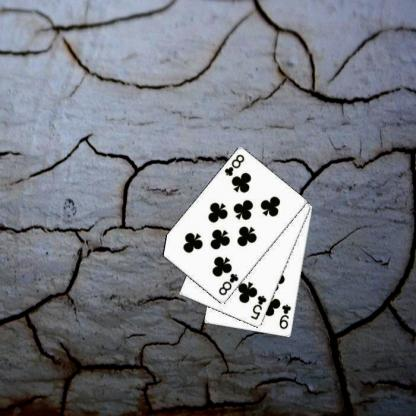5C: (248, 293, 268, 321)
8C: (216, 271, 240, 297), (221, 152, 245, 178)
9C: (277, 302, 292, 330)
